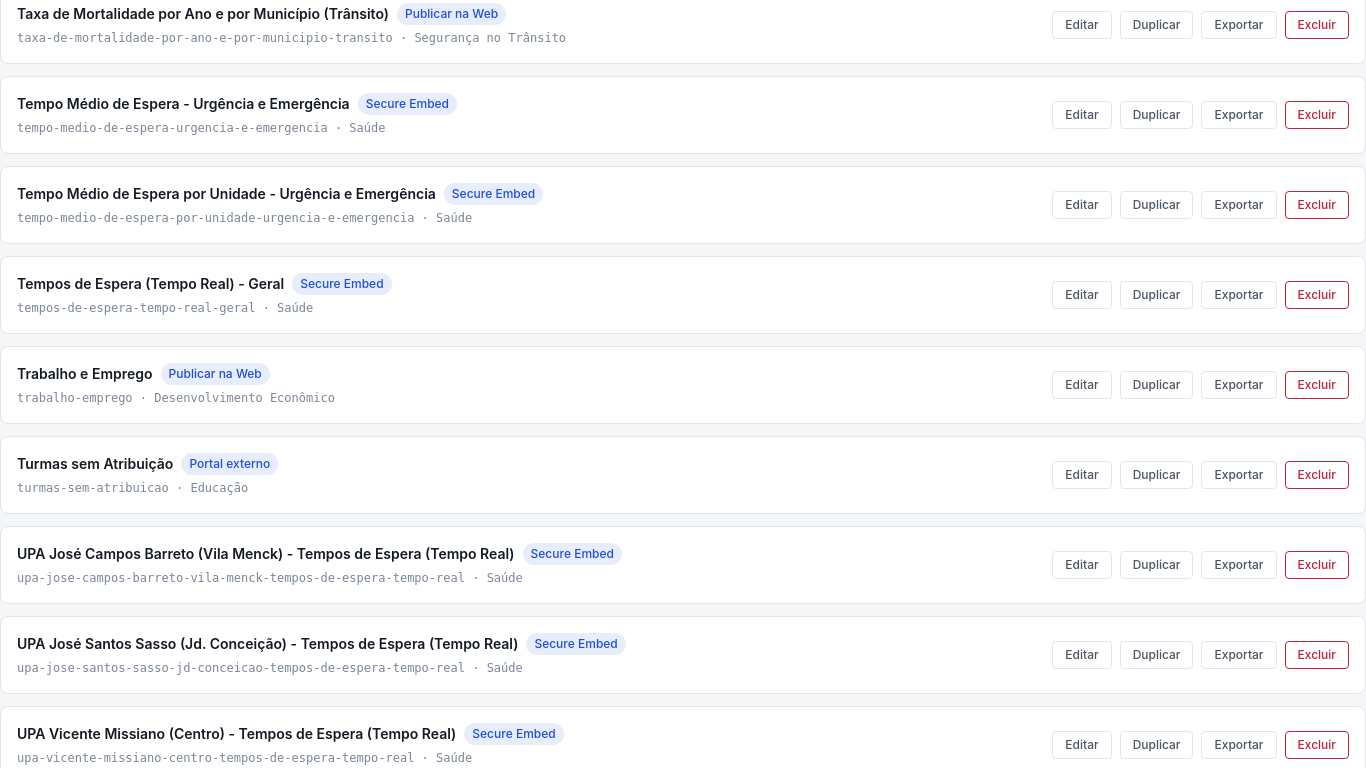
AdminPanelsPage › duplica um painel para um novo id
This screenshot has width=1366, height=768.
(page scrolled)
Click the button "Duplicar" in the row of "Trabalho e Emprego" at [1156, 385], box top-left (1120, 371), bottom-right (1193, 399)
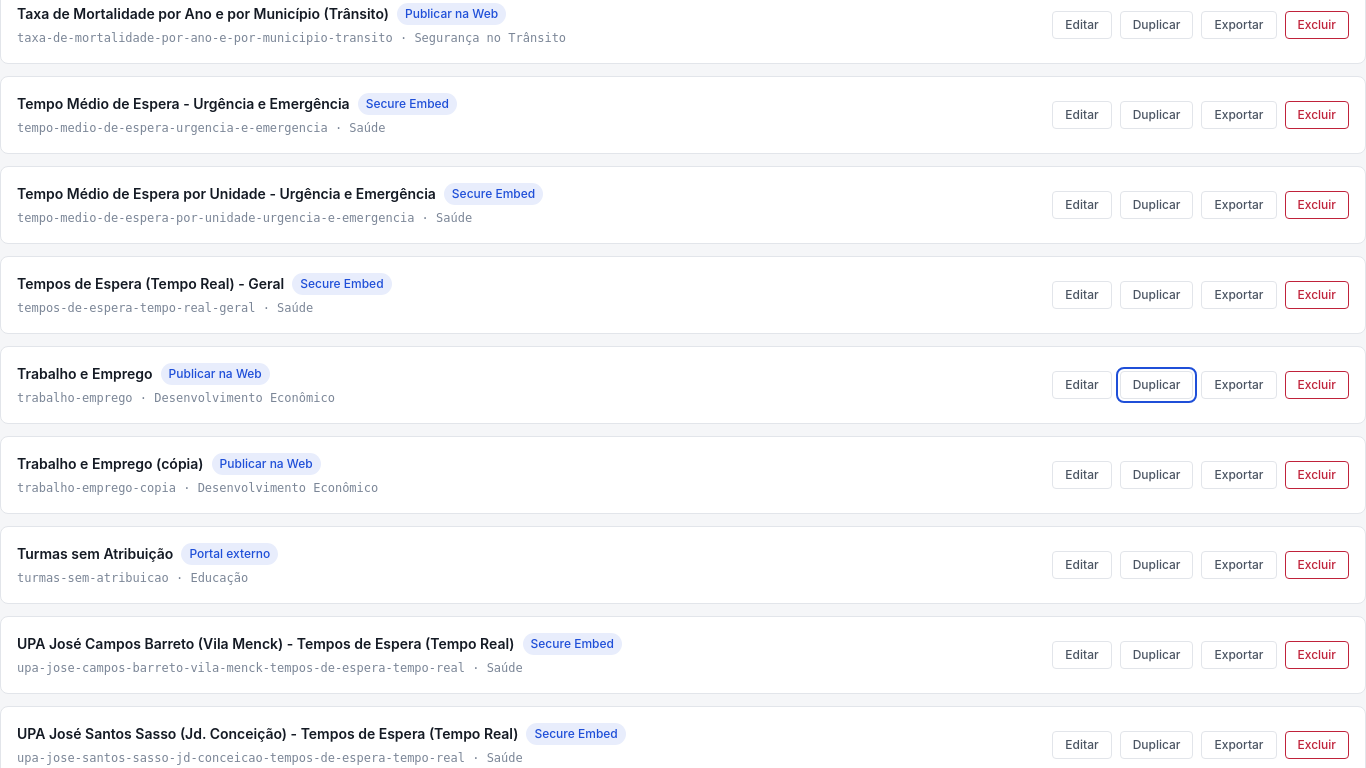
Result: the text "Trabalho e Emprego (cópia)" is shown at top-left (17, 453), bottom-right (204, 474)
